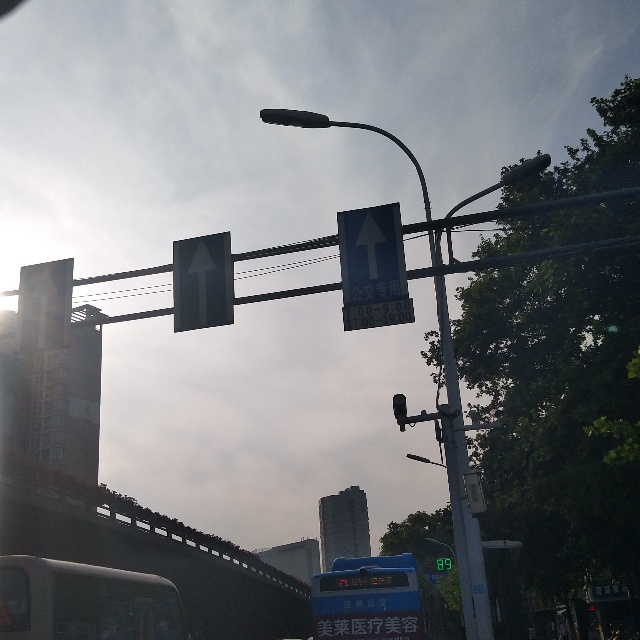straight: (169, 231, 236, 333), (17, 256, 73, 351)
